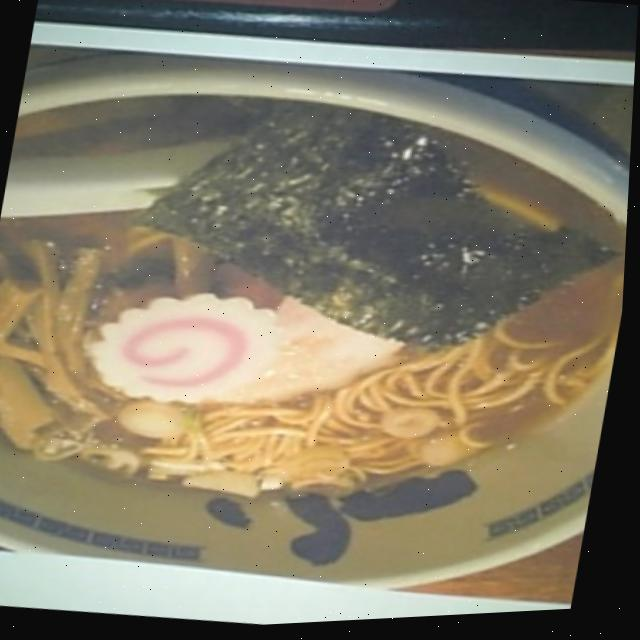面条主食: (0, 83, 636, 568)
